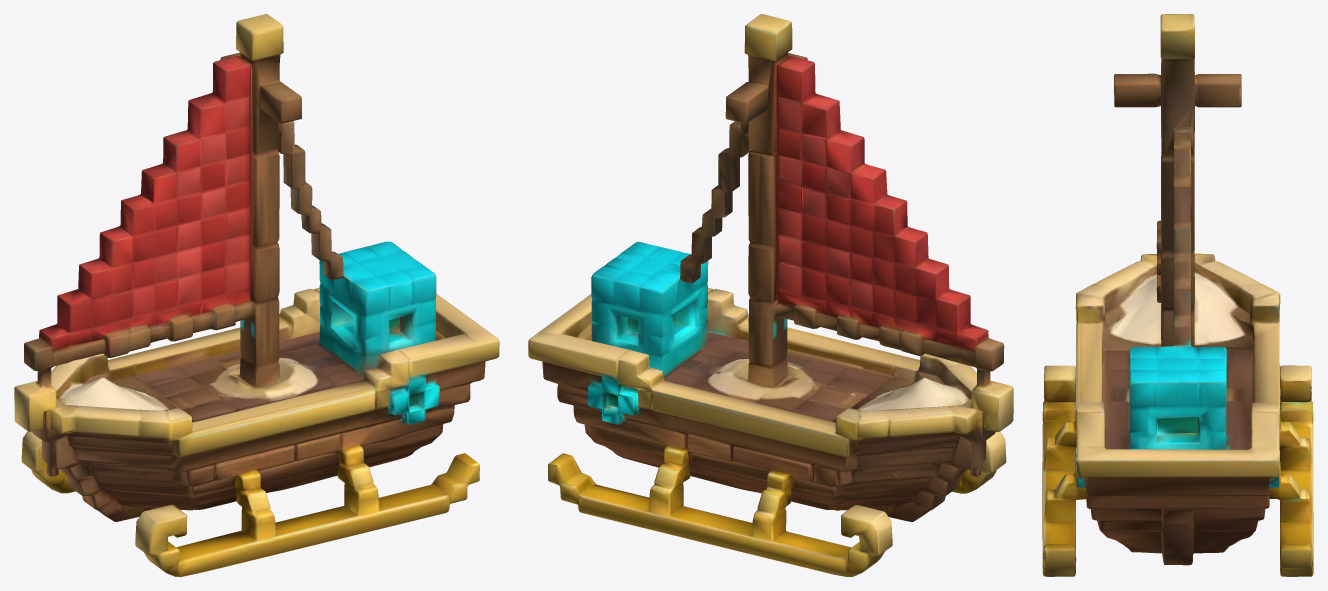
File: skiff.glb
3 renders of one model, left to right at view 1: azimuth 30°, elevation 25°; view 2: azimuth 150°, elevation 25°; view 3: azimuth 270°, elevation 25°, orthographic. The views are drawn at different scales.
Visible parts, largest first — view 1: node_0; view 2: node_0; view 3: node_0.
Boxes of the visible parts, left/top/right/bottom form: node_0: left=14, top=14, right=499, bottom=576; node_0: left=528, top=14, right=1013, bottom=576; node_0: left=1042, top=14, right=1313, bottom=576.
Size of the model in its own units: 0.8738 by 0.9176 by 0.4589.
Materials: 1 (1 with a texture image).
